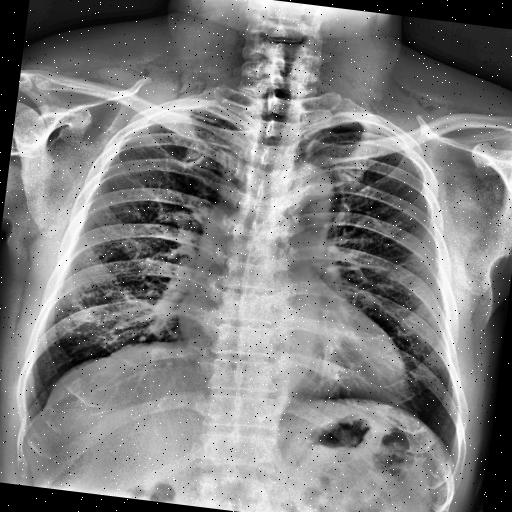0- Aortic enlargement: (212, 152, 335, 240), (269, 158, 337, 228), (276, 164, 340, 222)
3- Cardiomegaly: (168, 294, 412, 406)
